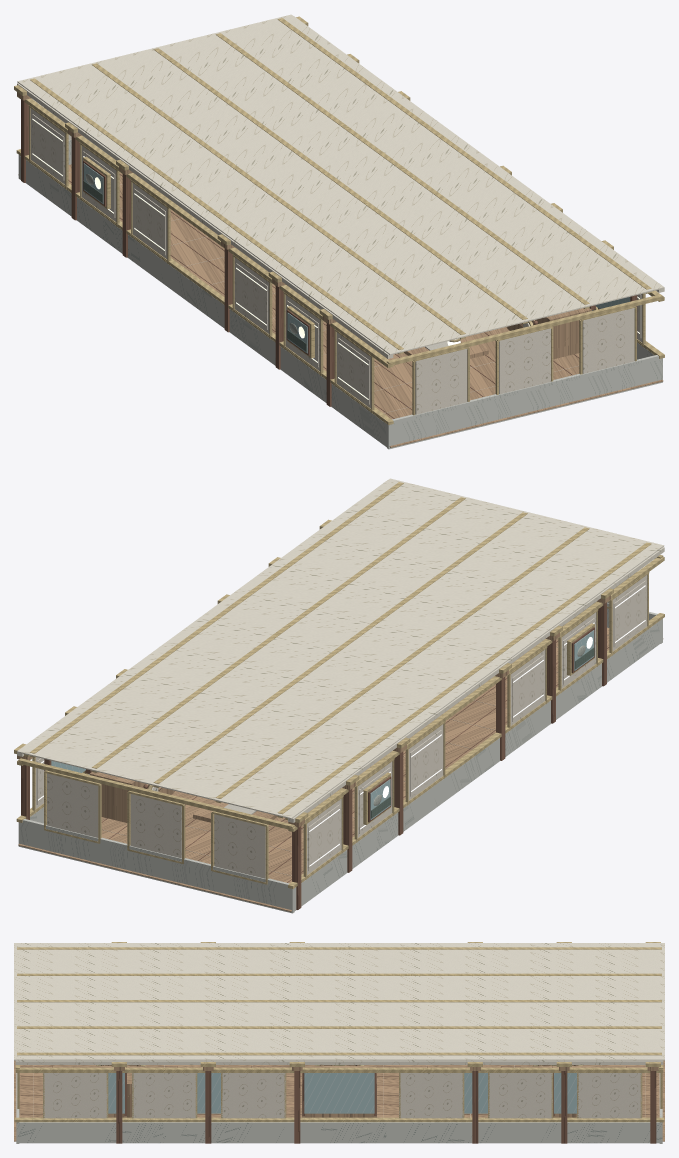
Rendered from bridge.gltf.
The picture shows the model from 3 angles, top to bottom: view 1: azimuth 30°, elevation 25°; view 2: azimuth 150°, elevation 25°; view 3: azimuth 270°, elevation 25°; orthographic projection. The views are drawn at different scales.
Parts seen in each view (by area): view 1: ivory, gold, cream, marble, oak, oakdark, sky; view 2: ivory, gold, cream, marble, oak, oakdark, sky; view 3: ivory, gold, cream, marble, oak, sky, oakdark.
Part boxes in pixels (x1,y1,x2,y2): ivory: (17, 14, 664, 358); gold: (14, 16, 664, 424); cream: (30, 108, 642, 414); marble: (18, 137, 662, 449); oak: (17, 92, 663, 447); oakdark: (21, 99, 637, 418); sky: (83, 163, 630, 353); ivory: (17, 478, 664, 822); gold: (14, 482, 664, 888); cream: (35, 574, 647, 878); marble: (18, 602, 662, 913); oak: (17, 595, 663, 911); oakdark: (21, 602, 609, 909); sky: (51, 630, 594, 819); ivory: (14, 943, 664, 1064); gold: (14, 942, 664, 1122); cream: (43, 1073, 641, 1118); marble: (16, 1073, 662, 1143); oak: (14, 1060, 664, 1141); sky: (108, 1073, 576, 1113); oakdark: (21, 1066, 657, 1143).
Size of the model in its own units: 9.28 by 2.99 by 20.85.
Materials: 15 (15 with a texture image).
